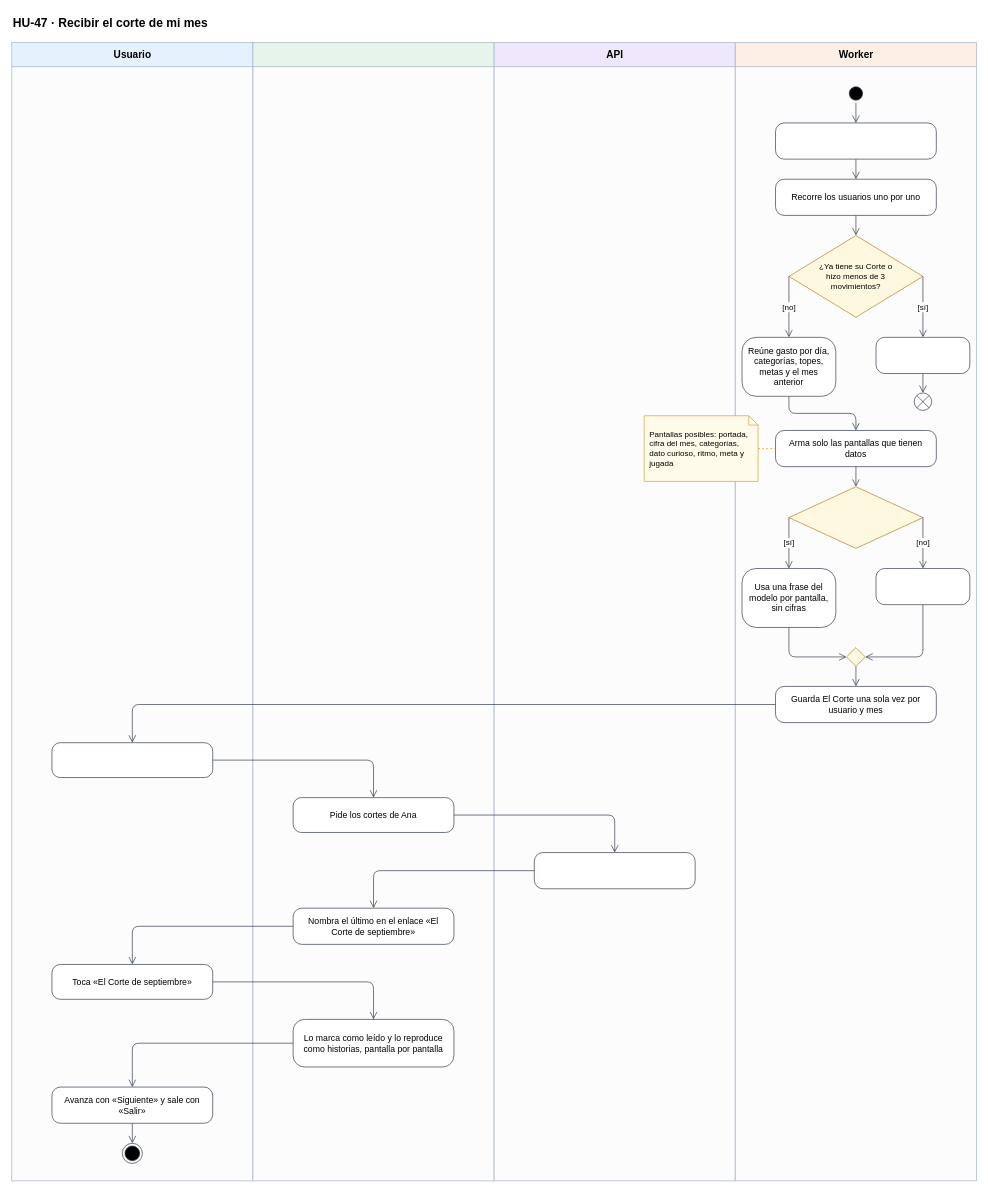
Image size: 988x1193. Some labels were removed from this diagram. The box of each missing label's shape, as (x1, y1, x2, y2) in pixels:
App: (252, 42, 494, 1181)
Devuelve los cortes de Ana, del más reciente al más antiguo: (534, 852, 695, 889)
El día 1 a las 6:00 (UTC) arranca el job del mes anterior: (775, 122, 936, 159)
Más tarde abre «Inicio»: (51, 742, 213, 778)
Salta a ese usuario: (875, 337, 970, 374)
Usa las frases de plantilla (RF‑57): (875, 568, 970, 605)
¿Respondió el modelo de lenguaje?: (788, 486, 923, 548)
